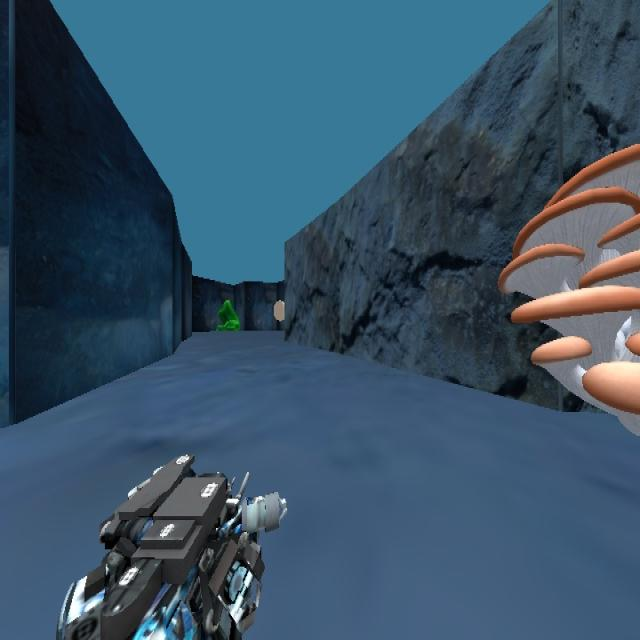Circle: (273, 299, 284, 321)
Diamon: (215, 297, 240, 331)
Mushroom: (497, 141, 639, 431)
